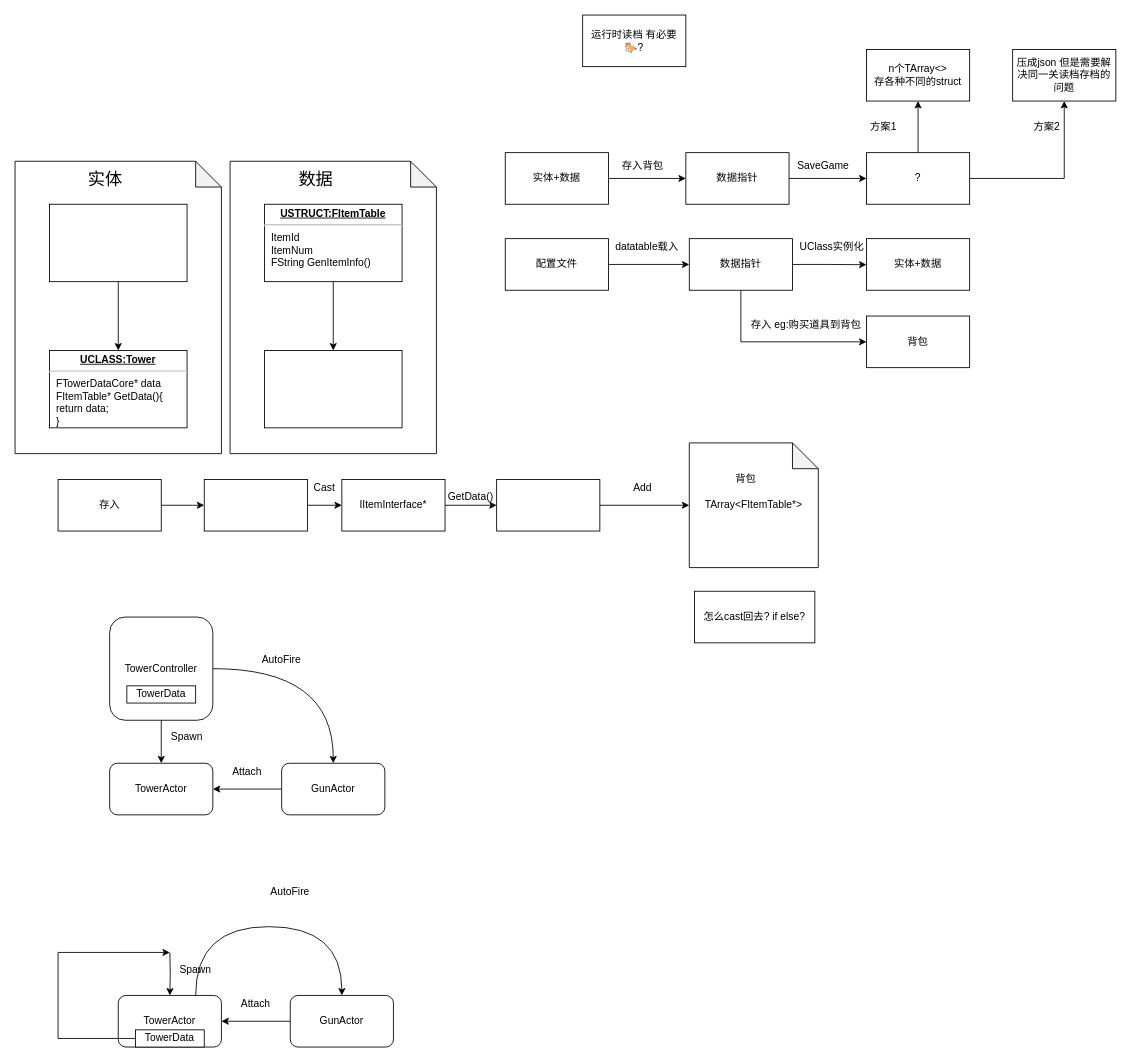
Image size: 1131x1062. Some labels were removed from this diagram. The centre of each missing label's shape, as x and y in pixels:
"FItemTable*" goes at [548,505].
"Tower*" goes at [255,505].
"UINTERFACE:IItemInterface FItemTable* GetData()" goes at [118,242].
"USTRUCT:FTowerDataCore Location GenItemInfo()" goes at [333,389].
